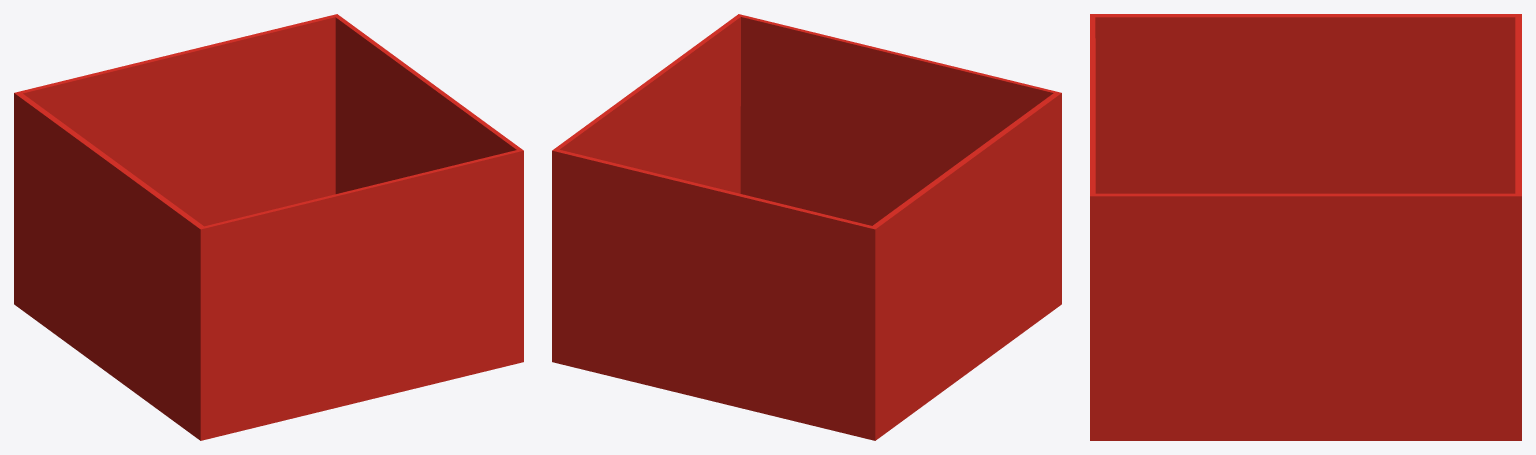
3 renders of one model, left to right at view 1: azimuth 30°, elevation 25°; view 2: azimuth 150°, elevation 25°; view 3: azimuth 270°, elevation 25°, orthographic. The views are drawn at different scales.
Parts seen in each view (by area): view 1: 平面; view 2: 平面; view 3: 平面.
Boxes of the visible parts, x1,y1,x2,y2 form: 平面: (14, 14, 523, 440); 平面: (552, 14, 1061, 440); 平面: (1090, 14, 1521, 440).
Size of the model in its own units: 2 by 1.25 by 2.
